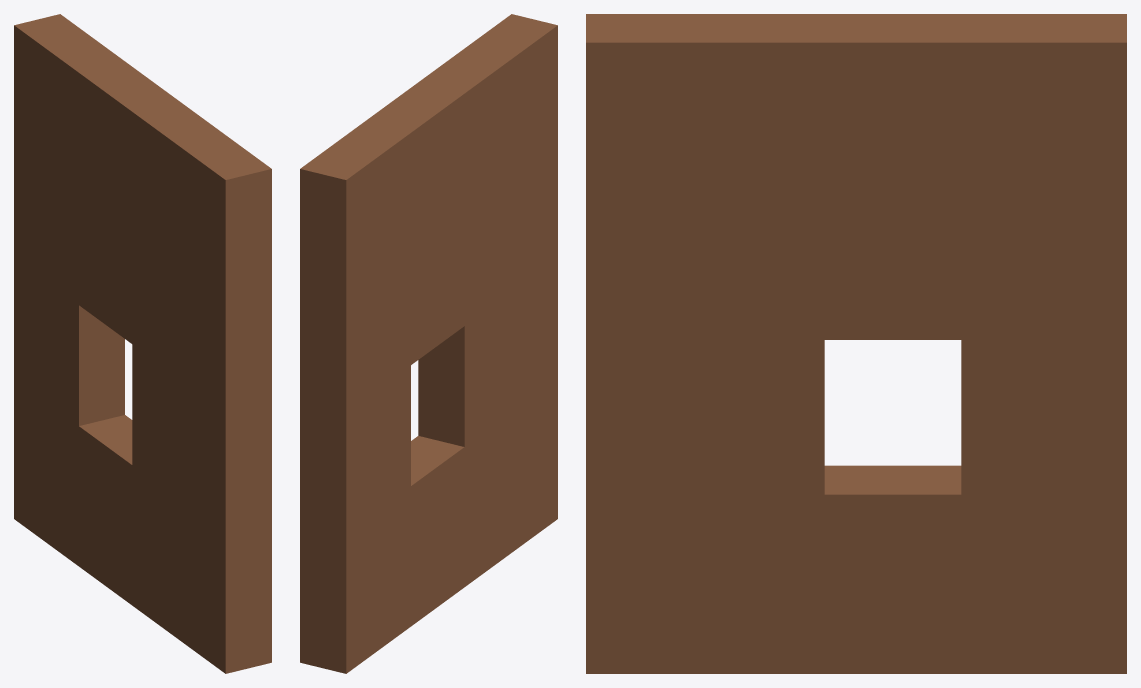
File: 墙壁左.fbx
3 renders of one model, left to right at view 1: azimuth 30°, elevation 25°; view 2: azimuth 150°, elevation 25°; view 3: azimuth 270°, elevation 25°, orthographic. The views are drawn at different scales.
Visible parts, largest first — view 1: window_wall; view 2: window_wall; view 3: window_wall.
Boxes of the visible parts, x1=… form: window_wall: x1=14, y1=14, x2=271, y2=673; window_wall: x1=300, y1=14, x2=557, y2=673; window_wall: x1=586, y1=14, x2=1126, y2=673.
Bounding box in the file's own units: 100 × 1021 × 793.
